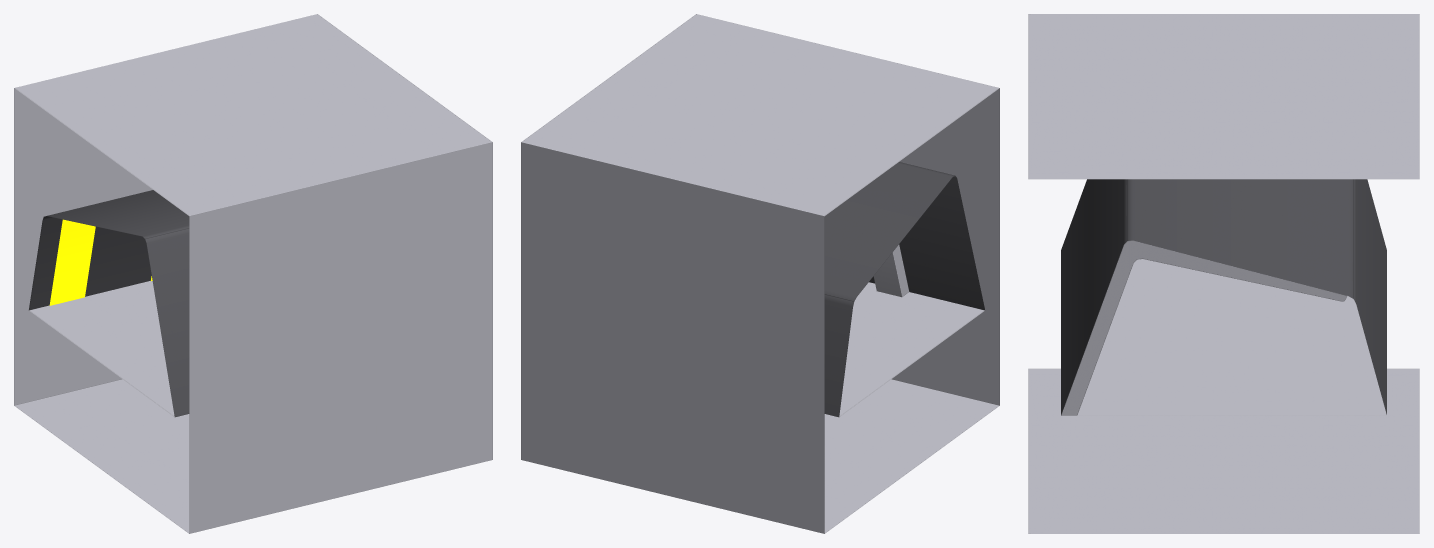
The model's file is Corridor_Part_01.FBX.
3 views of the same model, side by side, from view 1: azimuth 30°, elevation 25°; view 2: azimuth 150°, elevation 25°; view 3: azimuth 270°, elevation 25° (orthographic). The views are drawn at different scales.
Visible parts, largest first — view 1: Corridor_Part_01; view 2: Corridor_Part_01; view 3: Corridor_Part_01.
Boxes of the visible parts, left/top/right/bottom form: Corridor_Part_01: left=14, top=14, right=492, bottom=533; Corridor_Part_01: left=521, top=14, right=999, bottom=533; Corridor_Part_01: left=1028, top=14, right=1419, bottom=533.
Bounding box in the file's own units: 12 × 12 × 12.
